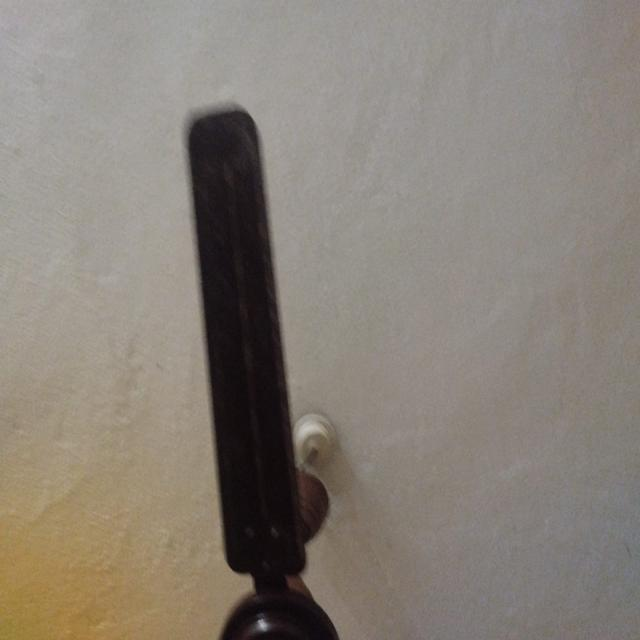fan_off: (186, 109, 339, 640)
